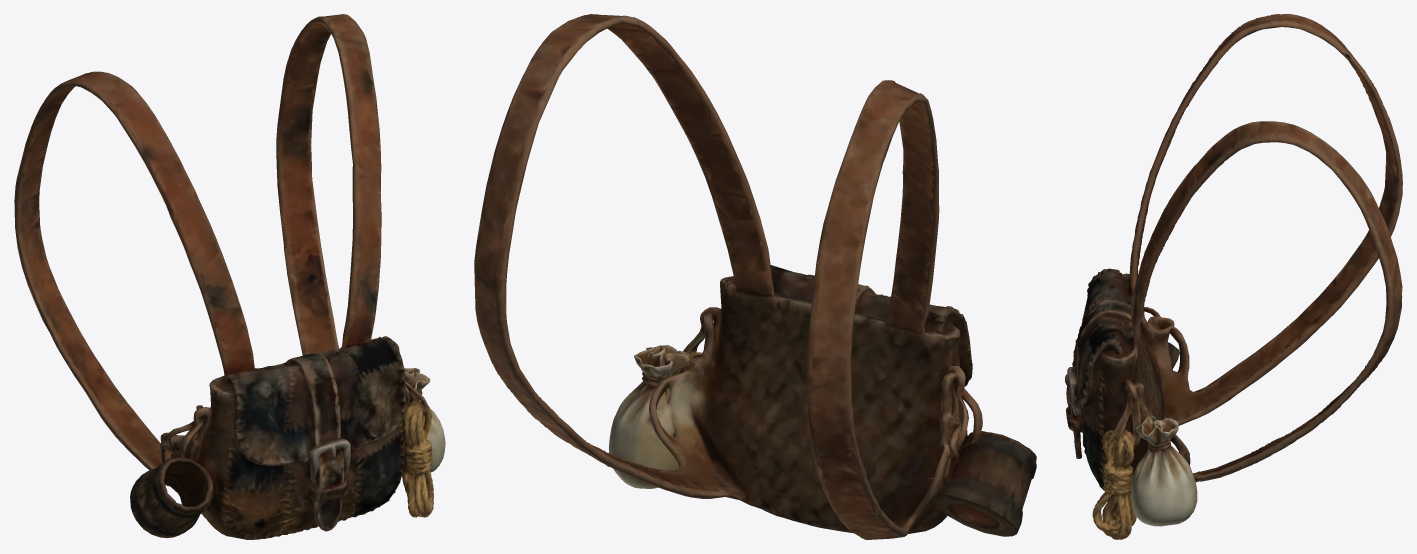
File: a3D-mochila.glb
3 renders of one model, left to right at view 1: azimuth 30°, elevation 25°; view 2: azimuth 150°, elevation 25°; view 3: azimuth 270°, elevation 25°, orthographic. The views are drawn at different scales.
Visible parts, largest first — view 1: geometry_0; view 2: geometry_0; view 3: geometry_0.
Boxes of the visible parts, box(x1,y1,x2,y2) form: geometry_0: box(14, 14, 445, 539); geometry_0: box(474, 14, 1036, 539); geometry_0: box(1065, 14, 1402, 539).
Size of the model in its own units: 1.42 by 1.9 by 1.41.
1 material, 1 textured.
